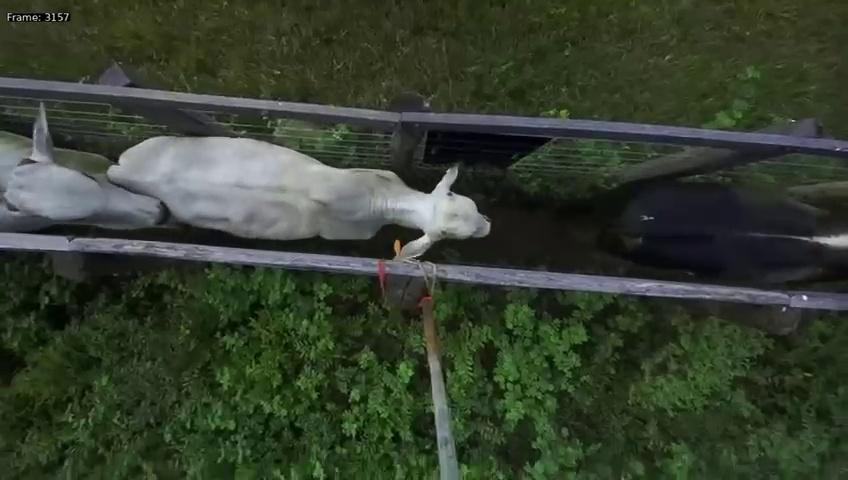cattle: (106, 101, 492, 260)
